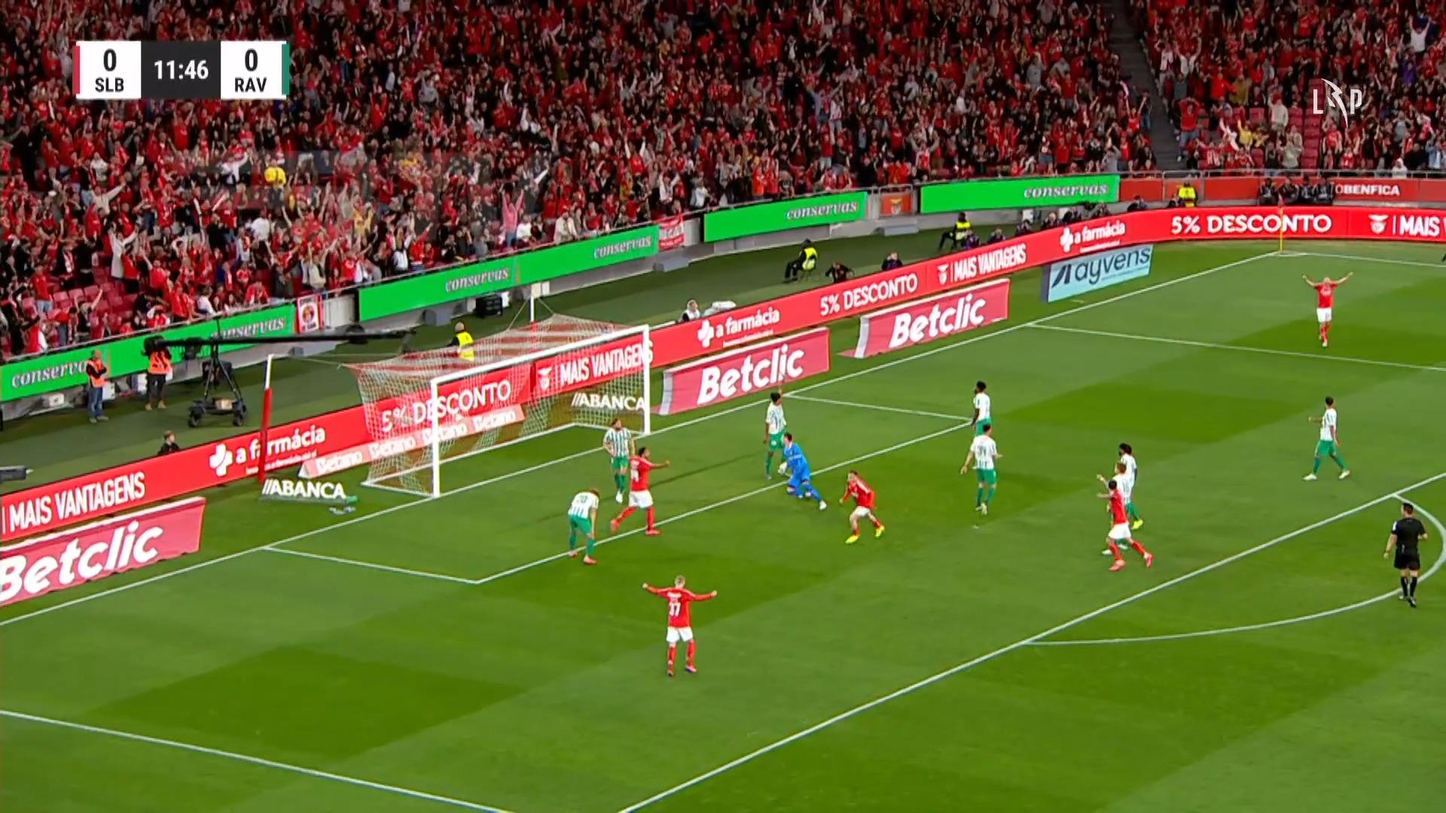ball: (1130, 518, 1142, 529)
goalkeeper: (776, 431, 828, 510)
player: (641, 574, 718, 677), (1096, 474, 1154, 571), (609, 446, 670, 536), (958, 419, 1002, 515), (1302, 395, 1350, 480), (1301, 269, 1353, 347), (837, 469, 885, 544), (602, 417, 635, 503), (566, 486, 600, 565), (1113, 442, 1142, 530), (762, 389, 789, 480), (968, 379, 992, 438)
referee: (1382, 501, 1429, 607)
